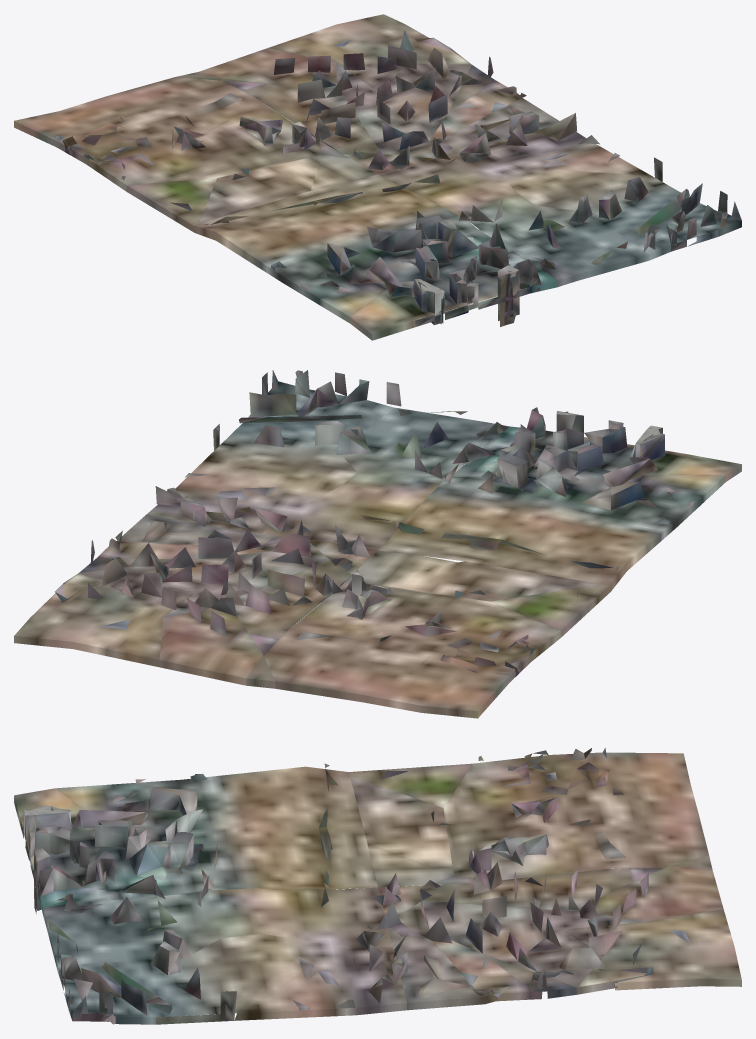
The picture shows the model from 3 angles, top to bottom: view 1: azimuth 30°, elevation 25°; view 2: azimuth 150°, elevation 25°; view 3: azimuth 270°, elevation 25°; orthographic projection. The views are drawn at different scales.
Parts seen in each view (by area): view 1: Mesh_0; view 2: Mesh_0; view 3: Mesh_0.
Boxes of the visible parts, box(x1,y1,x2,y2) form: Mesh_0: box(14, 14, 741, 340); Mesh_0: box(14, 370, 741, 718); Mesh_0: box(14, 748, 741, 1024).
Size of the model in its own units: 1064 by 134 by 1318.
1 material, 1 textured.
